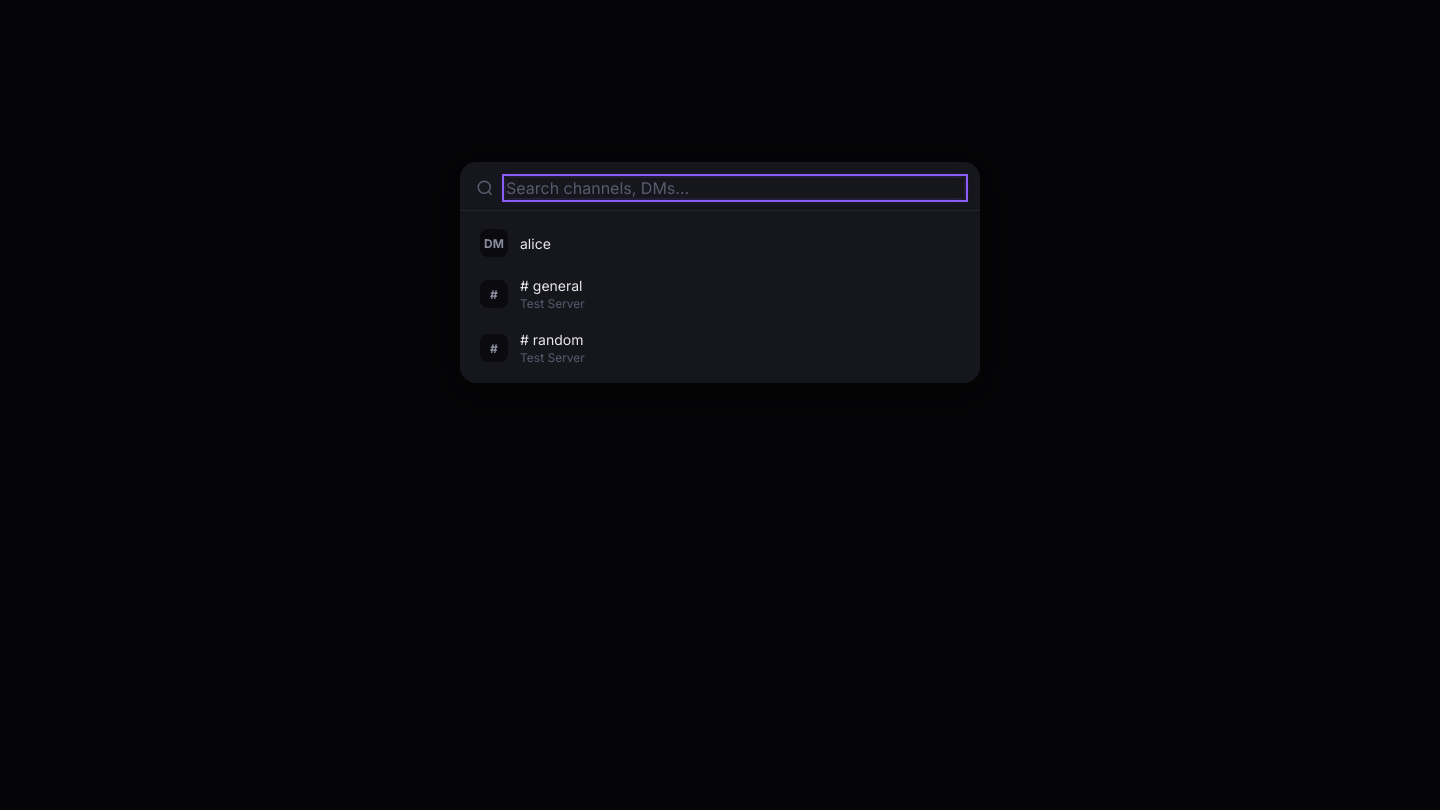
Test: QuickSwitcher › filters channels by search query
Type "gen" into the field with placeholder "Search channels, DMs...". click: (735, 188)
box: [506, 178, 964, 198]
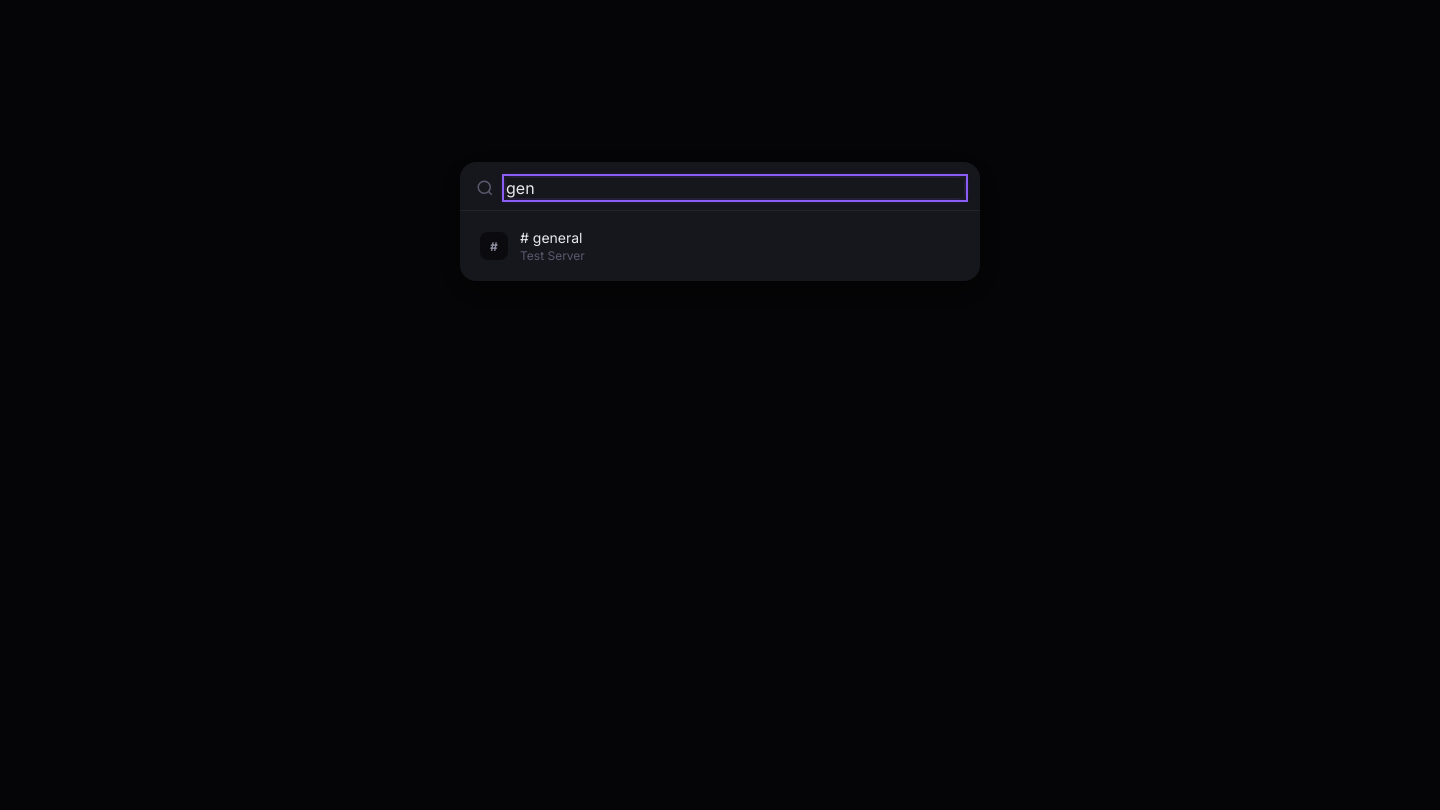
Expected: the text "# general" is shown, [520, 229, 585, 246]
Expected: the button "# random" is gone
